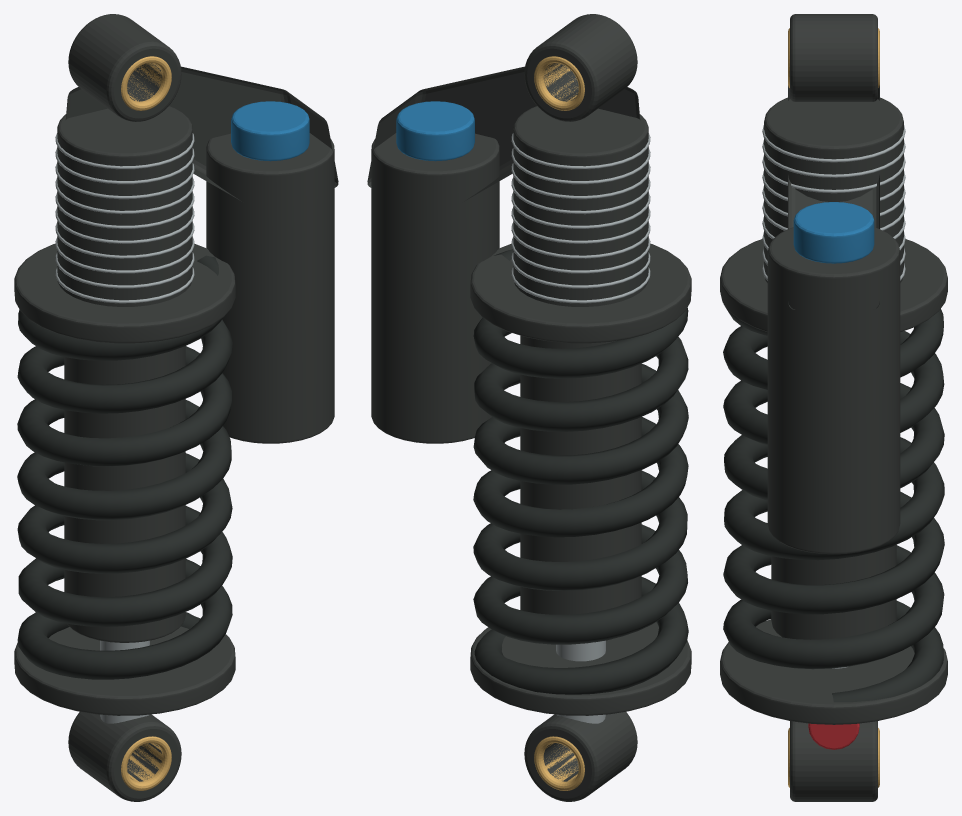
The model's file is marzocchi-bomber-cr--cd61fbb2.glb.
The picture shows the model from 3 angles, left to right: view 1: azimuth 30°, elevation 25°; view 2: azimuth 150°, elevation 25°; view 3: azimuth 270°, elevation 25°; orthographic projection. The views are drawn at different scales.
Parts seen in each view (by area): view 1: marzocchi-bomber-cr--cd61fbb2__link, marzocchi-bomber-cr--cd61fbb2__coil, marzocchi-bomber-cr--cd61fbb2__bolts, marzocchi-bomber-cr--cd61fbb2__adjuster, marzocchi-bomber-cr--cd61fbb2__stanchions; view 2: marzocchi-bomber-cr--cd61fbb2__link, marzocchi-bomber-cr--cd61fbb2__coil, marzocchi-bomber-cr--cd61fbb2__bolts, marzocchi-bomber-cr--cd61fbb2__adjuster, marzocchi-bomber-cr--cd61fbb2__stanchions; view 3: marzocchi-bomber-cr--cd61fbb2__link, marzocchi-bomber-cr--cd61fbb2__coil, marzocchi-bomber-cr--cd61fbb2__adjuster, marzocchi-bomber-cr--cd61fbb2__bolts, marzocchi-bomber-cr--cd61fbb2__rebound, marzocchi-bomber-cr--cd61fbb2__stanchions.
Boxes of the visible parts, <box> form: marzocchi-bomber-cr--cd61fbb2__link: <box>14,14,338,801</box>; marzocchi-bomber-cr--cd61fbb2__coil: <box>17,255,232,679</box>; marzocchi-bomber-cr--cd61fbb2__bolts: <box>55,133,194,723</box>; marzocchi-bomber-cr--cd61fbb2__adjuster: <box>231,101,309,161</box>; marzocchi-bomber-cr--cd61fbb2__stanchions: <box>121,56,171,790</box>; marzocchi-bomber-cr--cd61fbb2__link: <box>367,14,691,801</box>; marzocchi-bomber-cr--cd61fbb2__coil: <box>473,249,688,694</box>; marzocchi-bomber-cr--cd61fbb2__bolts: <box>511,133,650,723</box>; marzocchi-bomber-cr--cd61fbb2__adjuster: <box>396,101,474,161</box>; marzocchi-bomber-cr--cd61fbb2__stanchions: <box>534,56,584,790</box>; marzocchi-bomber-cr--cd61fbb2__link: <box>720,14,947,801</box>; marzocchi-bomber-cr--cd61fbb2__coil: <box>723,304,944,702</box>; marzocchi-bomber-cr--cd61fbb2__adjuster: <box>793,202,874,263</box>; marzocchi-bomber-cr--cd61fbb2__bolts: <box>762,125,905,668</box>; marzocchi-bomber-cr--cd61fbb2__rebound: <box>808,723,859,749</box>; marzocchi-bomber-cr--cd61fbb2__stanchions: <box>788,28,879,787</box>.
Bounding box in the file's own units: 0.096 × 0.234 × 0.062.
